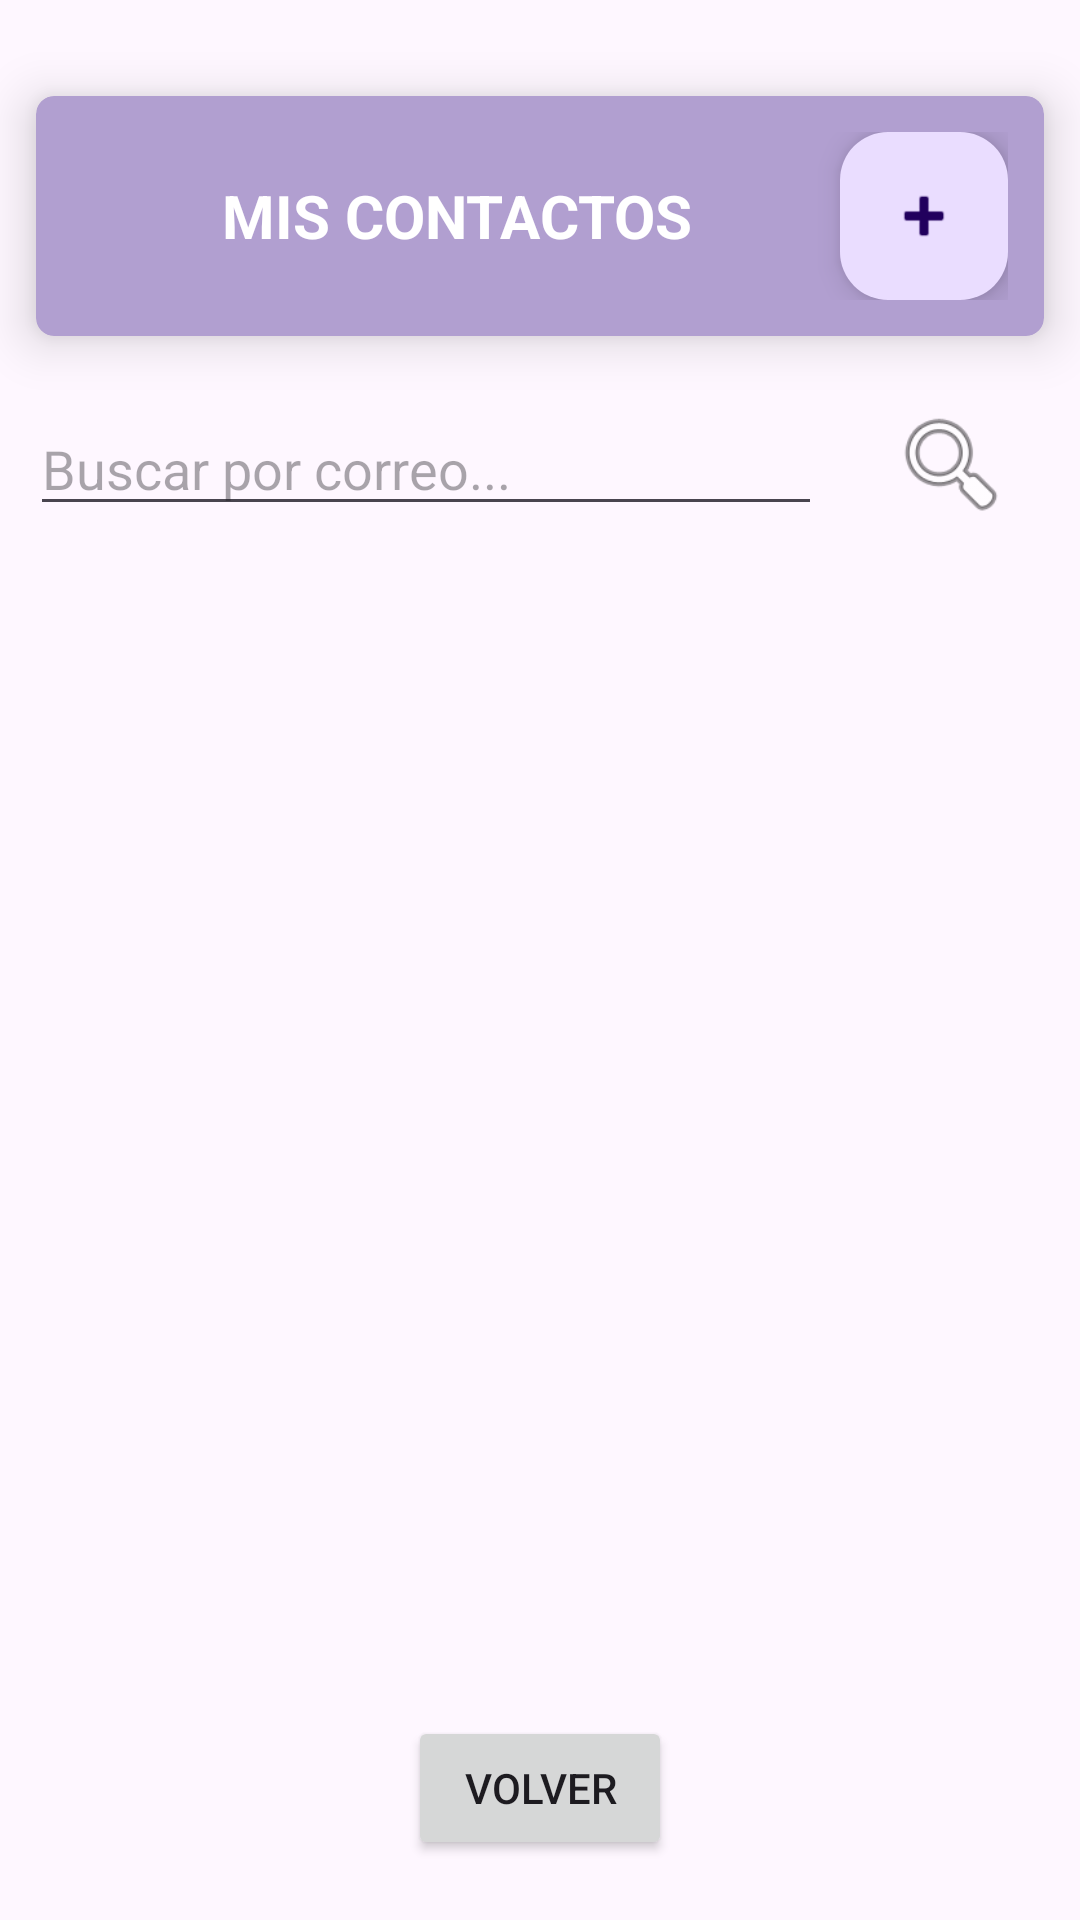

Icon click points for this 1080 x 1920 phone screenshot, format (x=x, y=y):
add: (x=924, y=216)
search: (x=951, y=465)
